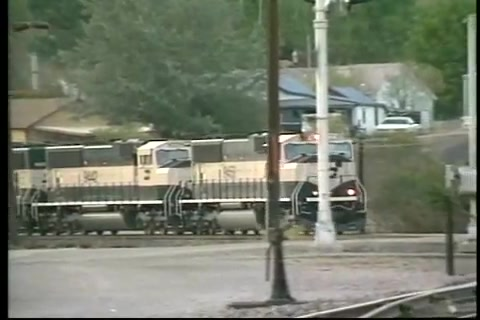train: (11, 116, 370, 239)
